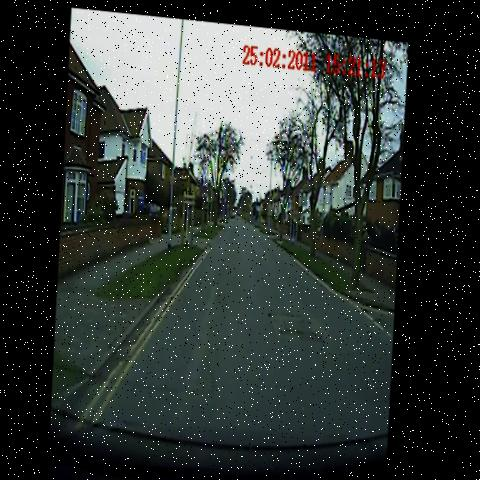pothole: (268, 296, 338, 356)
